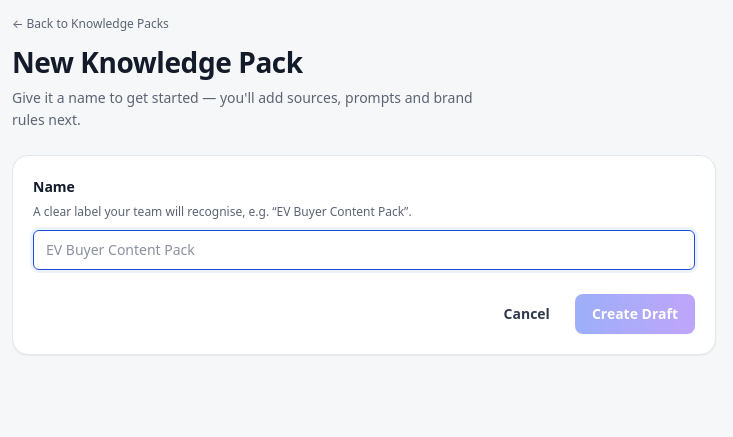
Test: CreateKnowledgePackForm › shows a friendly error and does not navigate on failure
Type "x" into the field labelled "Name".
click(364, 250); type("x")  # box [33,230,695,270]
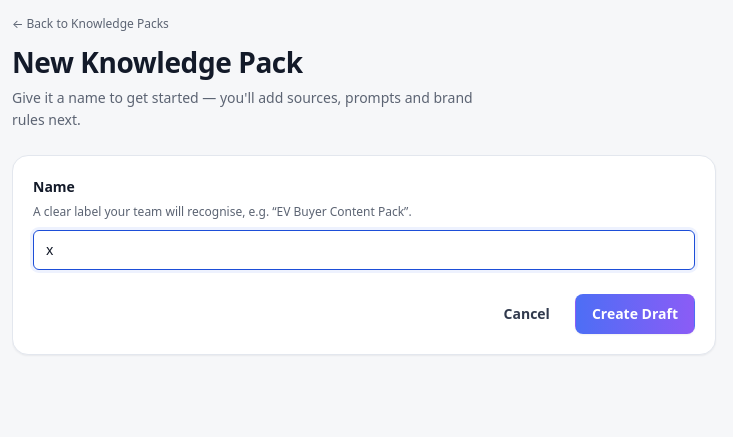
Click the button "Create Draft".
click(635, 314)  # box [575,294,695,334]
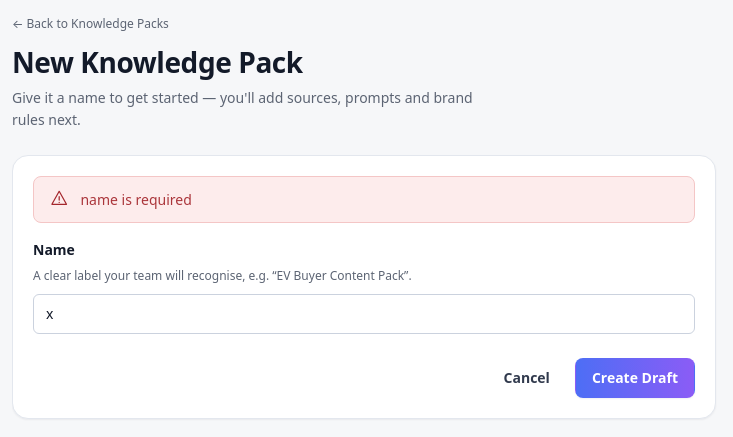
Expected: the text "name is required" is shown, [80,190,192,209]
